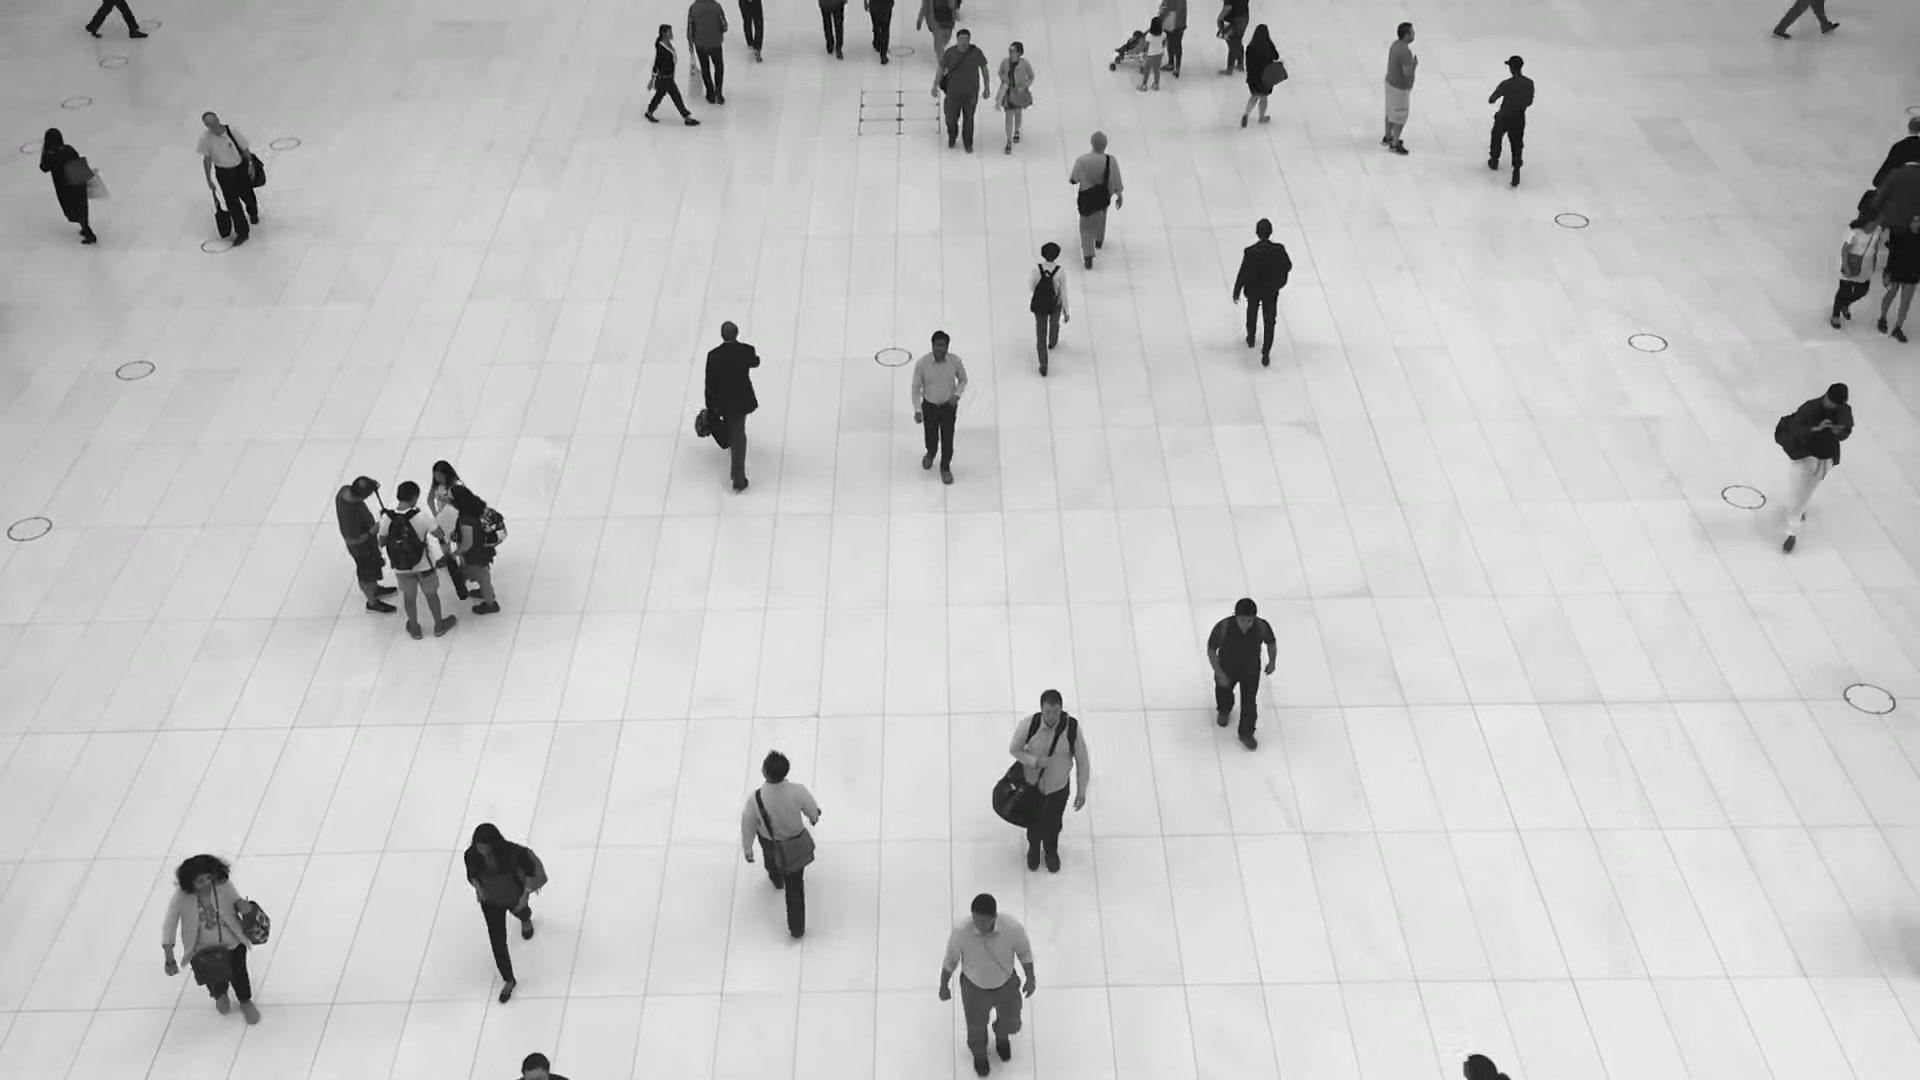person: (938, 892, 1038, 1080), (161, 852, 264, 1025), (740, 747, 823, 938), (1007, 689, 1088, 875), (463, 820, 535, 1004), (377, 478, 459, 638), (1778, 381, 1854, 553), (1205, 597, 1277, 751), (702, 320, 760, 492), (334, 468, 400, 612), (1232, 217, 1293, 367), (910, 330, 968, 486), (196, 111, 260, 246), (1068, 130, 1125, 270), (931, 28, 990, 153), (39, 127, 97, 248), (449, 482, 501, 613), (1829, 207, 1882, 329), (1487, 54, 1536, 185), (642, 22, 700, 127), (1028, 241, 1071, 380), (1876, 214, 1920, 343), (1380, 21, 1418, 155), (684, 0, 730, 106), (426, 459, 463, 580), (995, 41, 1035, 153), (1240, 22, 1281, 129), (1136, 16, 1166, 91)
